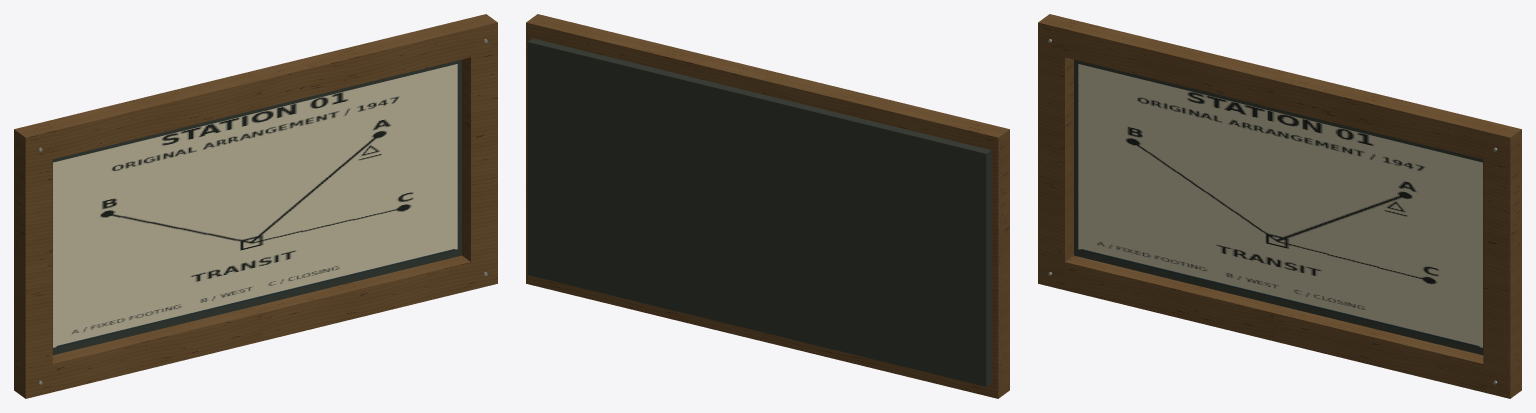
File: SM_FieldKit_Diagram_LOD1.glb
The picture shows the model from 3 angles, left to right: view 1: azimuth 30°, elevation 25°; view 2: azimuth 150°, elevation 25°; view 3: azimuth 330°, elevation 25°; orthographic projection.
Visible parts, largest first — view 1: SM_FieldKit_Diagram_LOD1; view 2: SM_FieldKit_Diagram_LOD1; view 3: SM_FieldKit_Diagram_LOD1.
Boxes of the visible parts, x1,y1,x2,y2 form: SM_FieldKit_Diagram_LOD1: (14,14,497,398); SM_FieldKit_Diagram_LOD1: (526,14,1009,398); SM_FieldKit_Diagram_LOD1: (1038,14,1521,398).
Size of the model in its own units: 0.7 by 0.37 by 0.048.
Materials: 5 (3 with a texture image).
